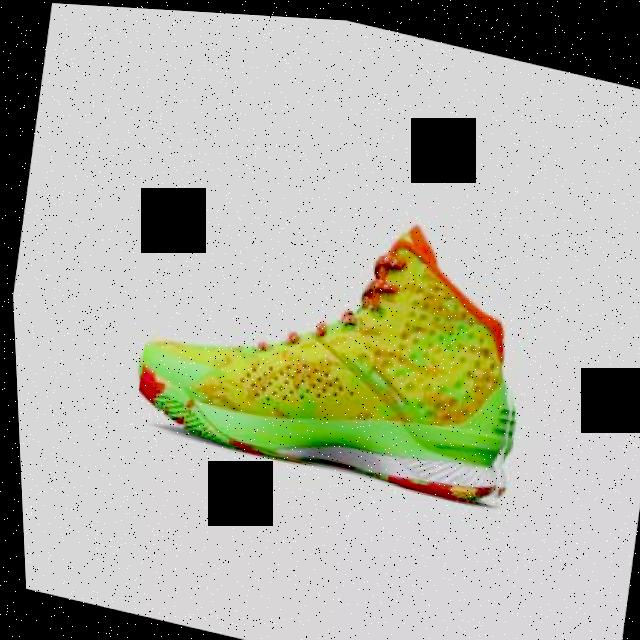shoe: (121, 160, 546, 505)
